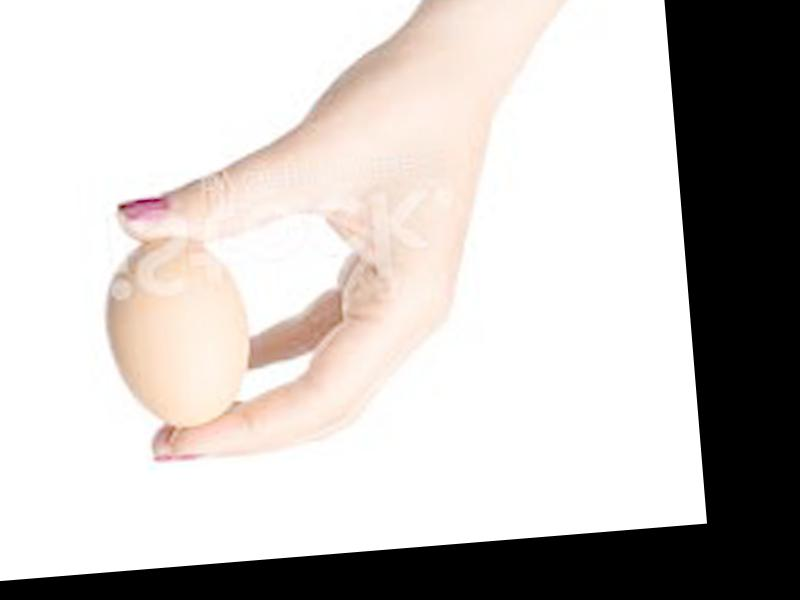Eggs: (105, 230, 252, 431)
